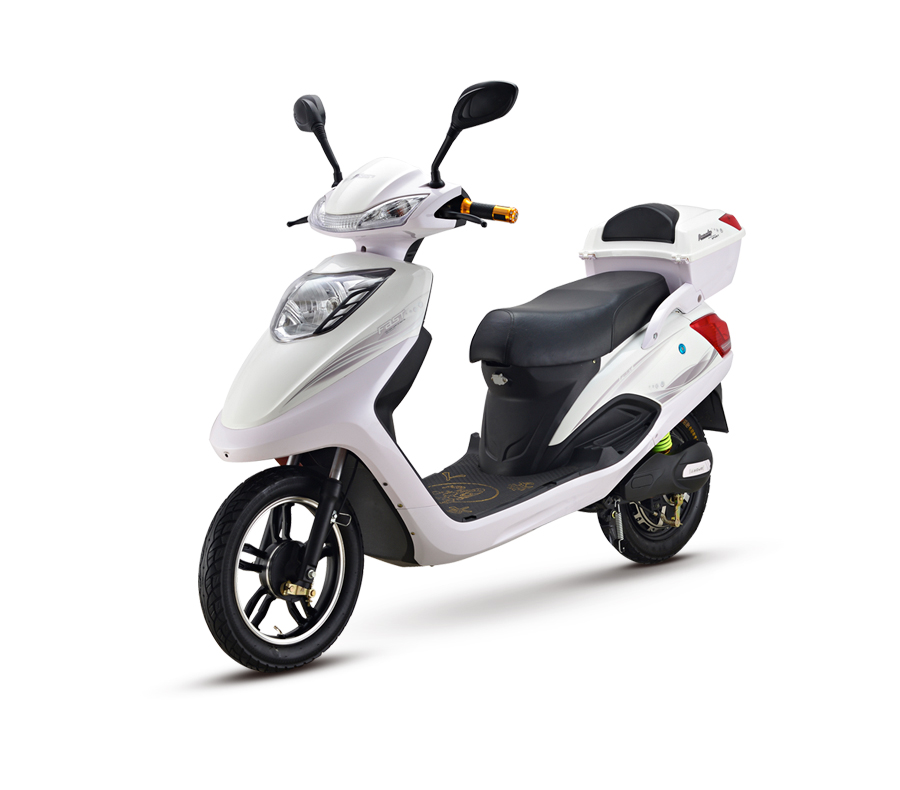电动车: (185, 72, 767, 682)
